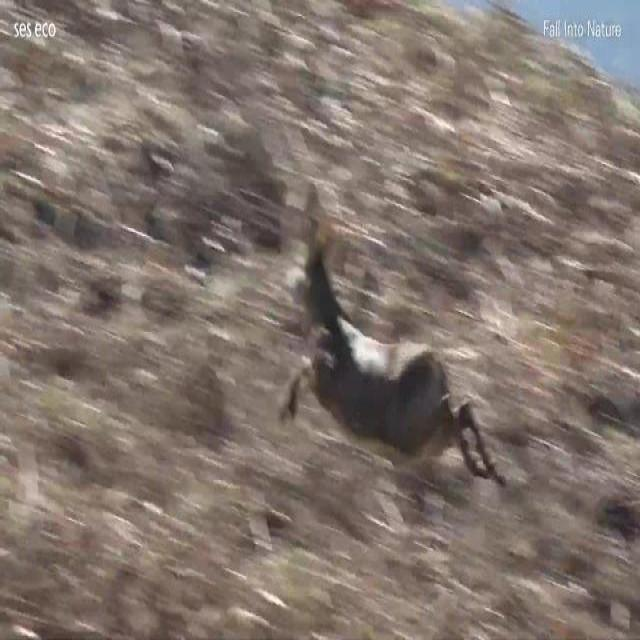deer: (278, 209, 506, 495)
